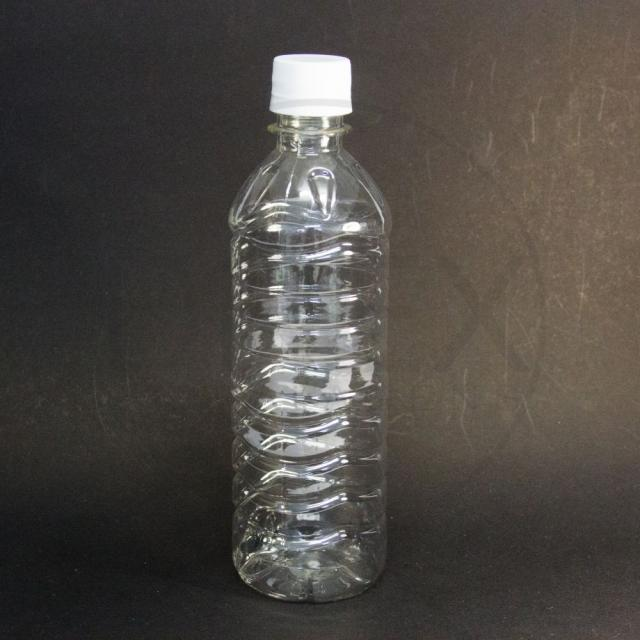bottom: (226, 517, 414, 606)
cap: (252, 51, 373, 153)
